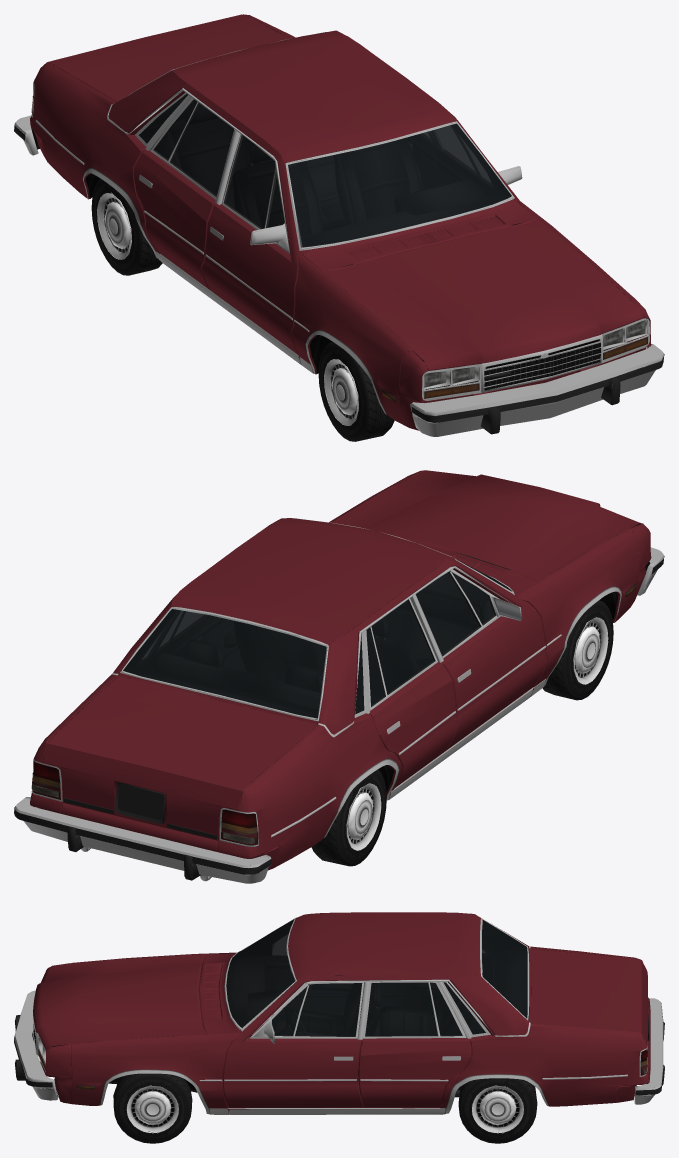
Rendered from sedan.glb.
3 views of the same model, one above another, from view 1: azimuth 30°, elevation 25°; view 2: azimuth 150°, elevation 25°; view 3: azimuth 270°, elevation 25° (orthographic). The views are drawn at different scales.
Parts seen in each view (by area): view 1: sedan; view 2: sedan; view 3: sedan.
Boxes of the visible parts, x1=… form: sedan: x1=14, y1=14, x2=664, y2=441; sedan: x1=14, y1=470, x2=664, y2=883; sedan: x1=14, y1=912, x2=664, y2=1143.
Bounding box in the file's own units: 1.83 × 1.35 × 5.
6 materials, 5 textured.
